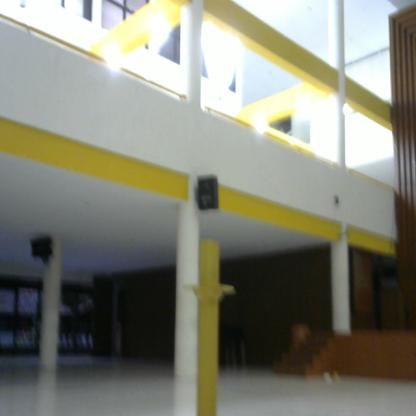pole: (181, 234, 244, 416)
